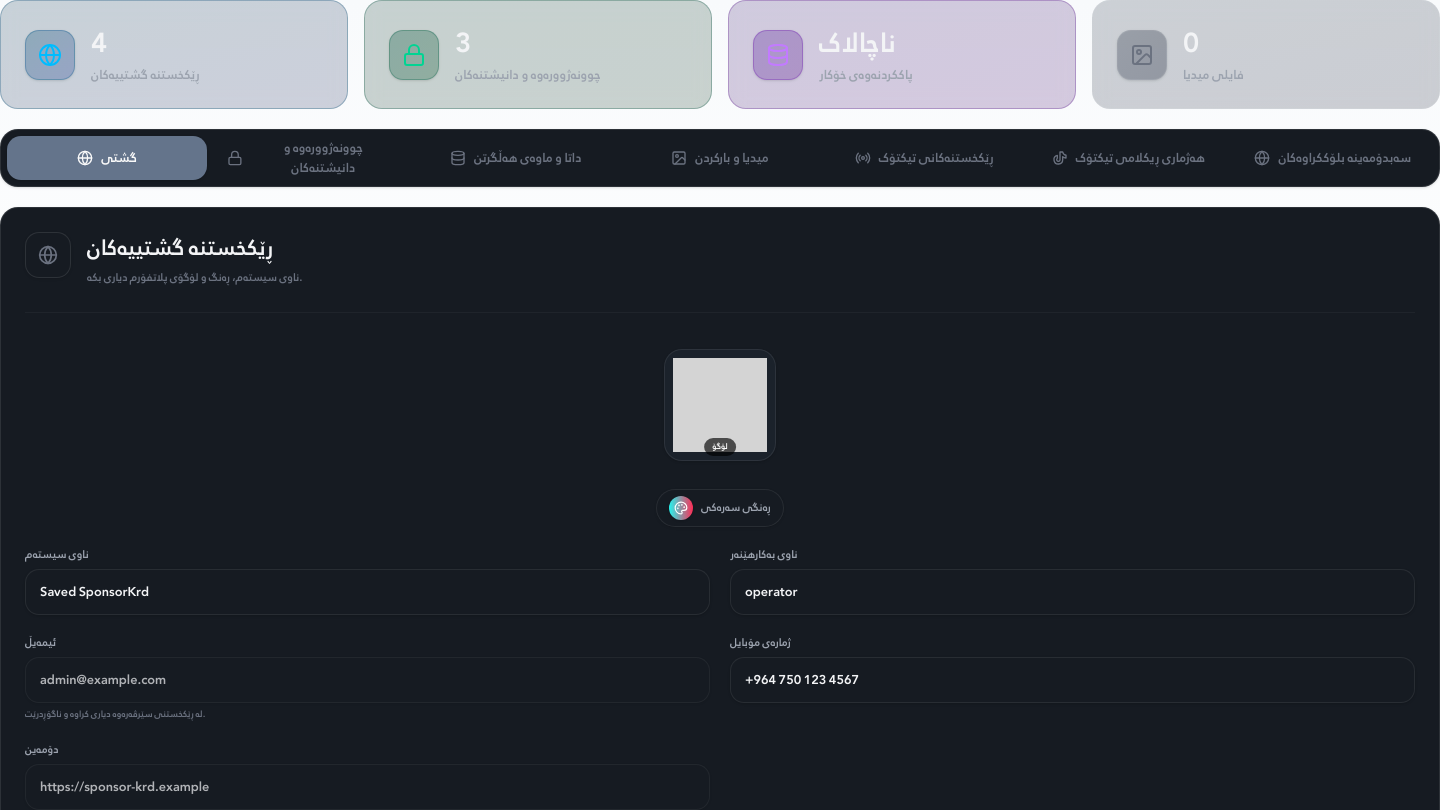
Scenario: PlatformSettingsPage General tab › shows Google authentication in Login & Sessions and loads security data
Expected: the 1st field showing "Saved SponsorKrd" is shown, [25,568,710,614]
Expected: the text "Google OAuth چالاکە" is not shown
Step 1. Click the tab "چوونەژوورەوە و دانیشتنەکان" → (311, 158), box [211,136,412,180]
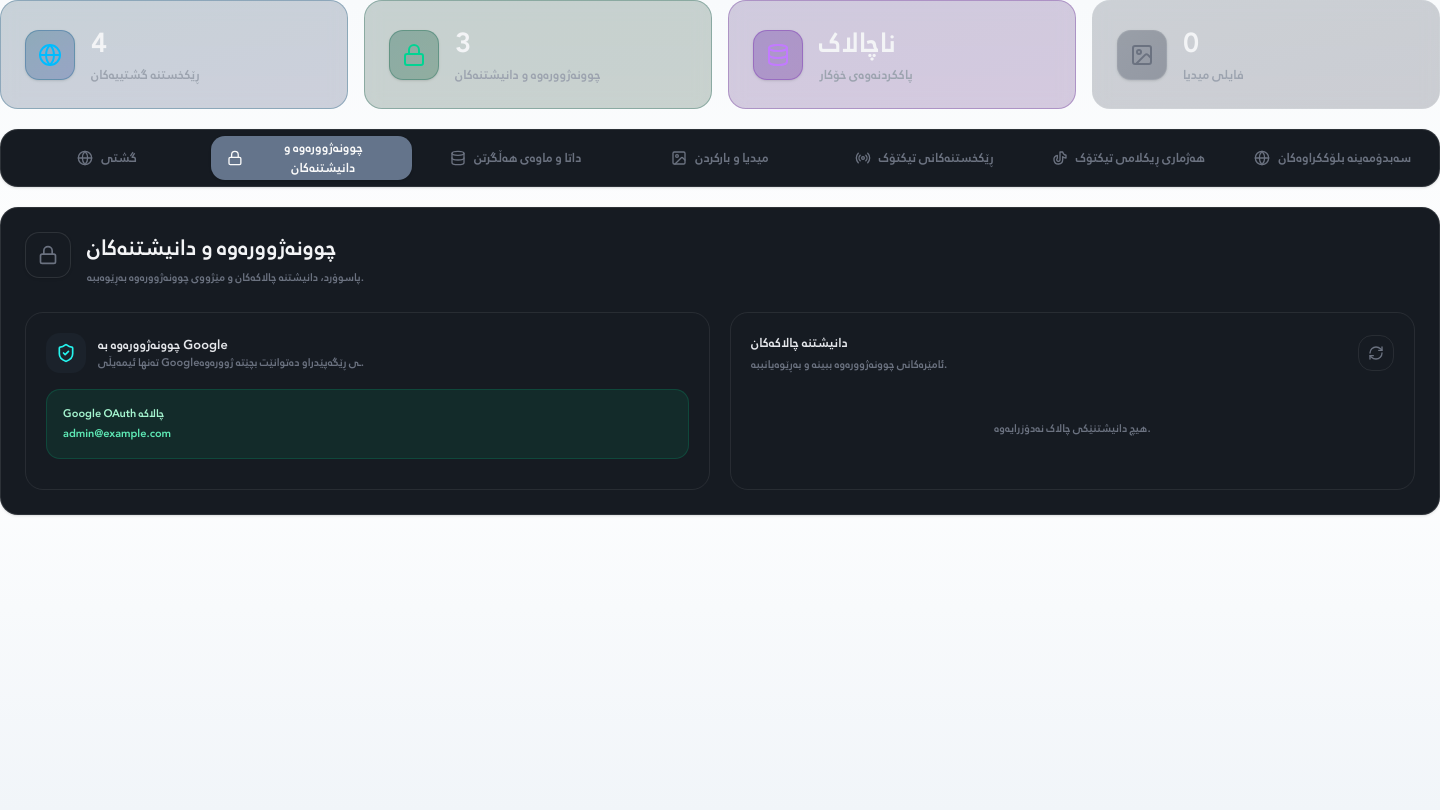
Expected: the heading "چوونەژوورەوە بە Google" is shown, [98,334,228,356]
Expected: the text "هیچ دانیشتنێکی چالاک نەدۆزرایەوە." is shown, [994,418,1151,438]
Expected: the button named "نوێکردنەوەی دانیشتنەکان" is shown, [1358,334,1394,370]
